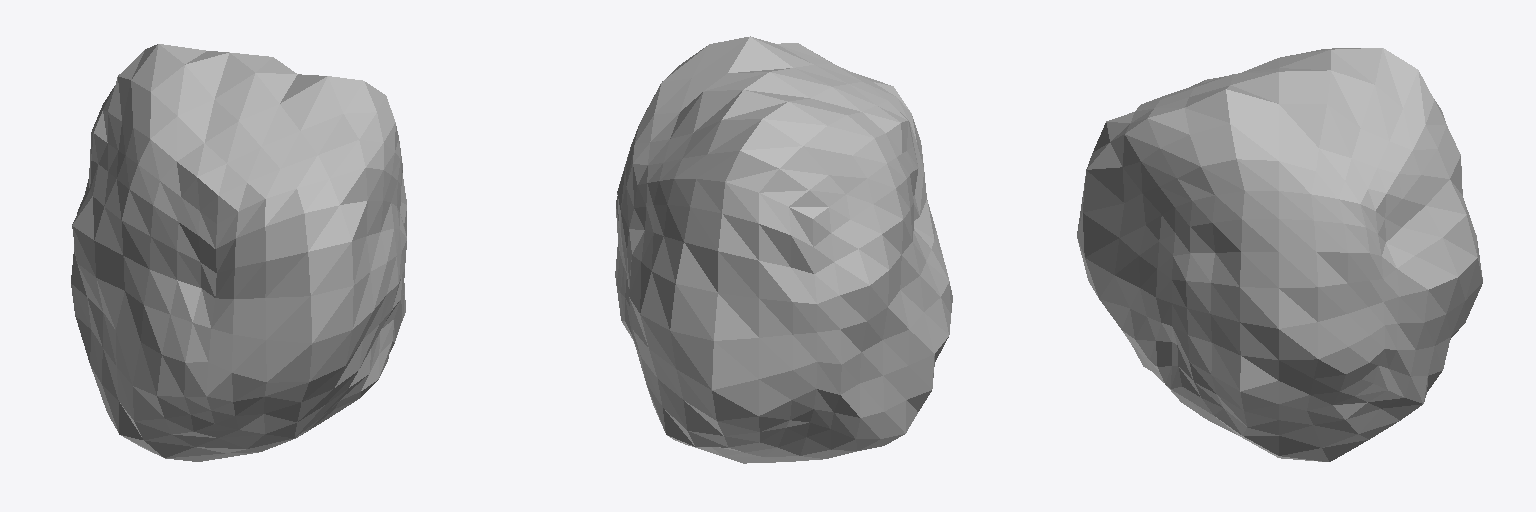
File: asteroid.obj
3 views of the same model, side by side, from view 1: azimuth 30°, elevation 25°; view 2: azimuth 150°, elevation 25°; view 3: azimuth 270°, elevation 25° (orthographic).
Visible parts, largest first — view 1: Lp01.001_meshId0_name; view 2: Lp01.001_meshId0_name; view 3: Lp01.001_meshId0_name.
Part boxes in pixels (x1,y1,x2,y2): Lp01.001_meshId0_name: (71, 44, 406, 461); Lp01.001_meshId0_name: (615, 36, 952, 463); Lp01.001_meshId0_name: (1077, 48, 1482, 461).
Bounding box in the file's own units: 6.27 × 7.8 × 7.61.